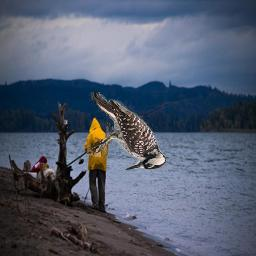Woodpecker: (88, 92, 167, 170)
